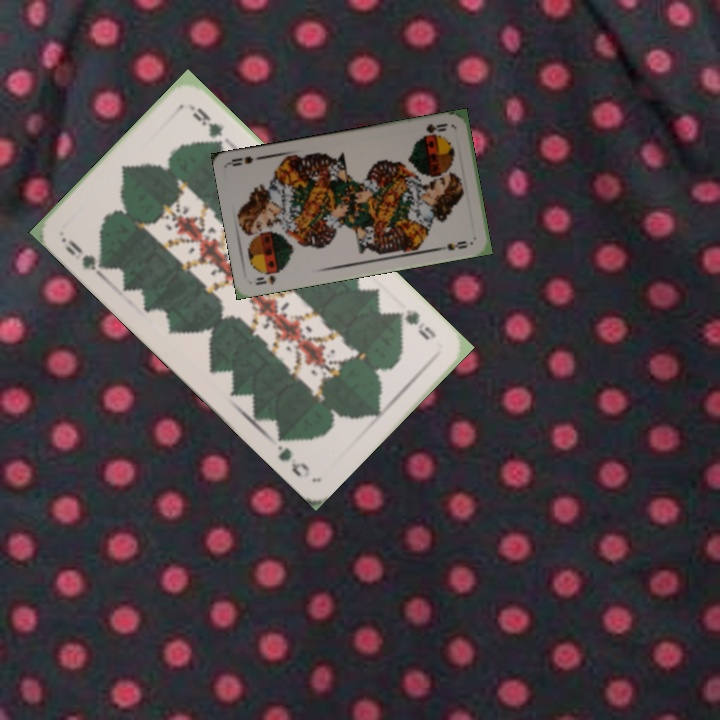G9: (56, 233, 112, 279), (390, 305, 439, 343)
SO: (417, 119, 450, 139), (251, 271, 278, 288)
